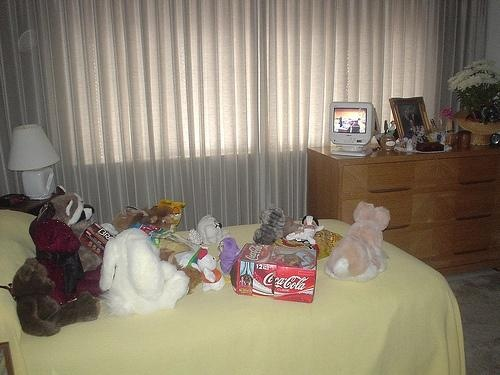tvmonitor: (329, 100, 379, 160)
